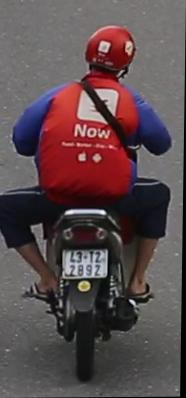LP: (60, 246, 112, 281)
helmet: (83, 21, 137, 79)
